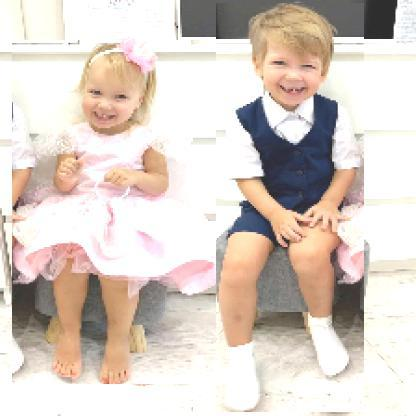child: (13, 41, 245, 386), (217, 4, 366, 414)
